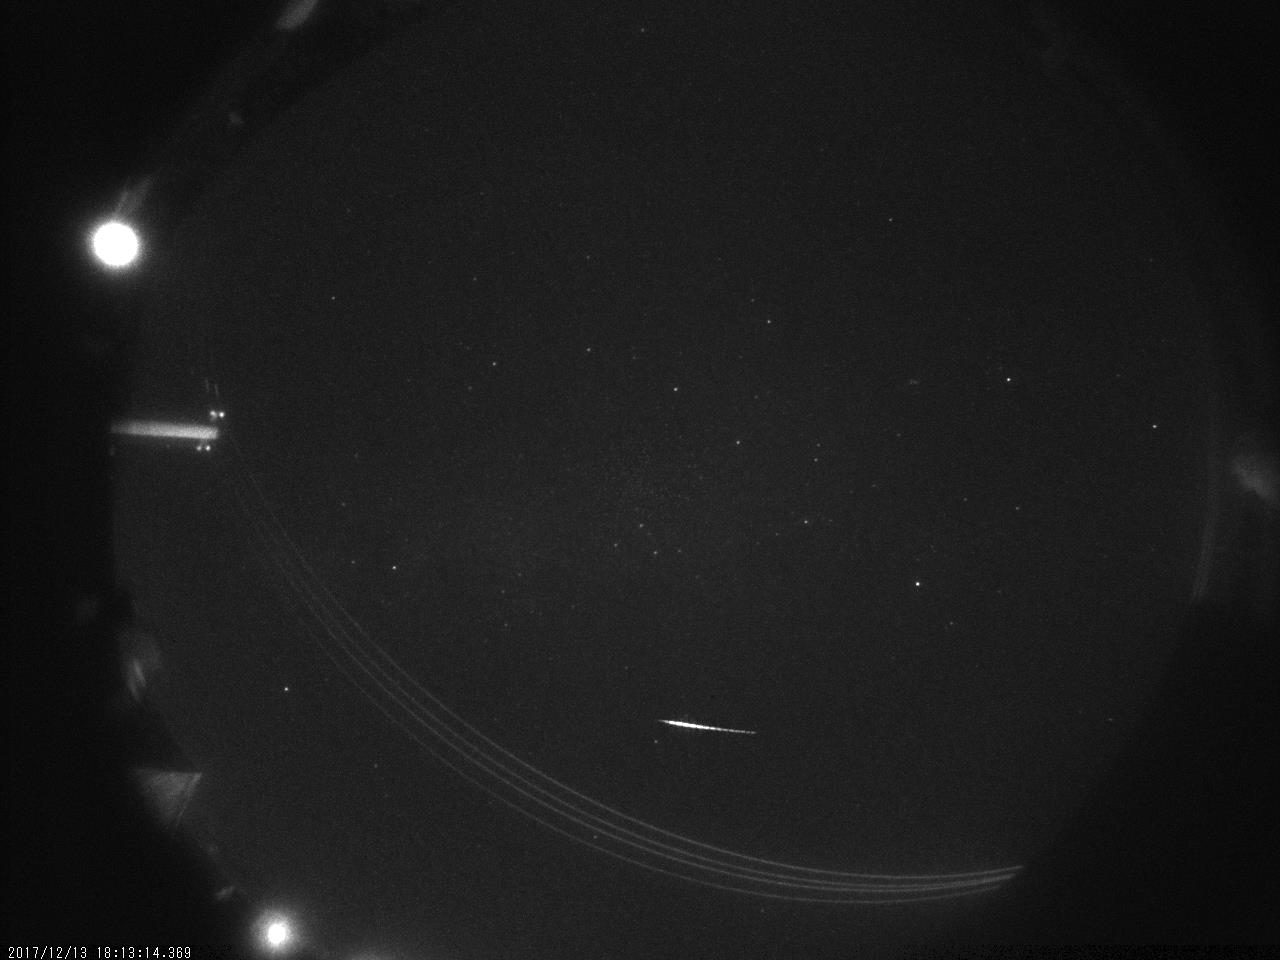meteor: (642, 704, 779, 772)
